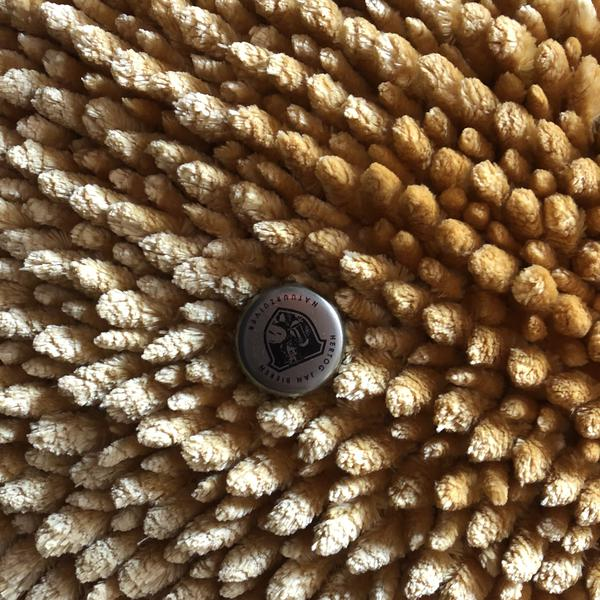hertogjan: (231, 284, 345, 399)
